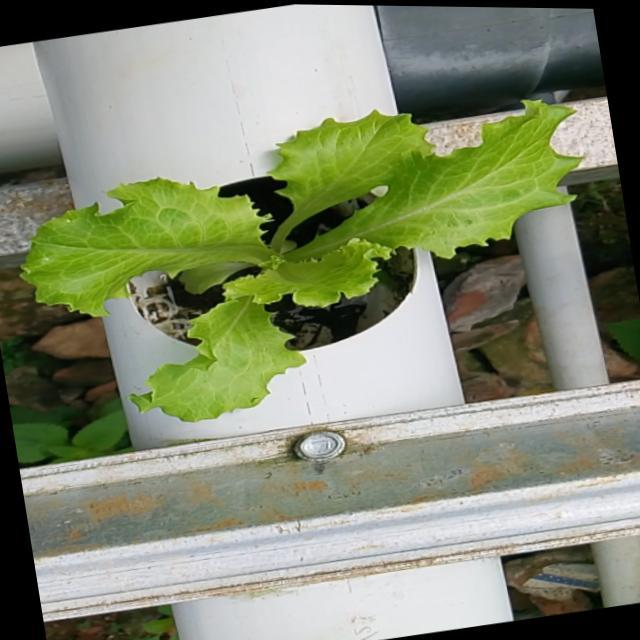Baby: (19, 110, 583, 433)
